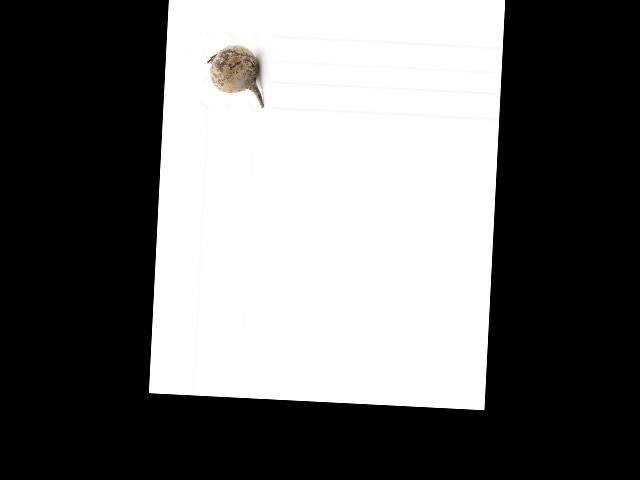beet: (205, 43, 266, 107)
